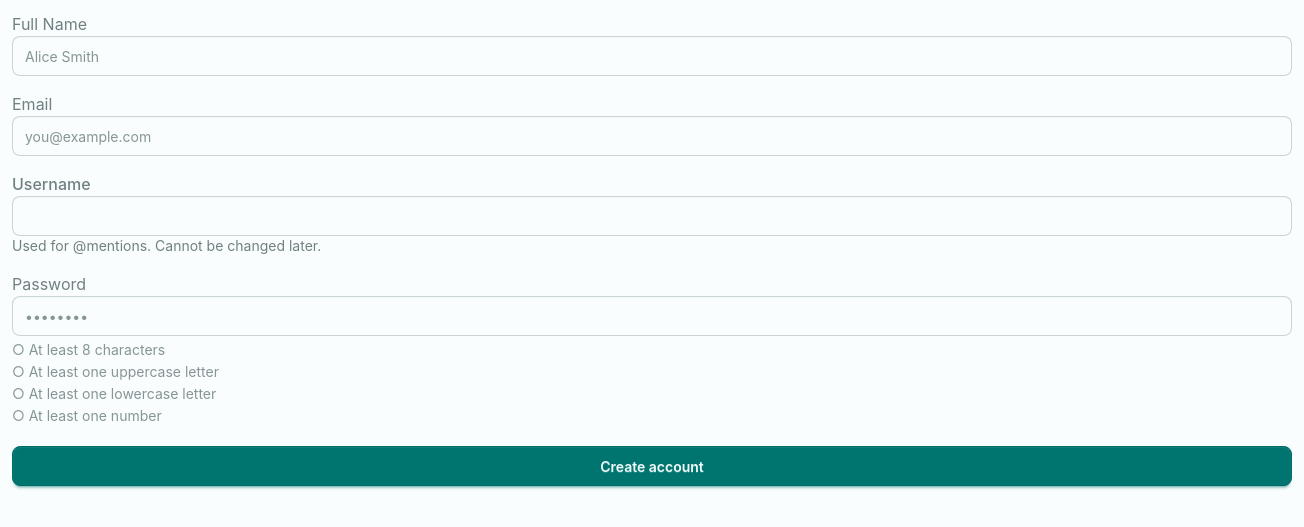
RegisterForm: username › shows a server rejection (taken) on the username field, not as a general error
The width and height of the screenshot is (1304, 527).
Step 1. Type "Sam Smith" into the field with placeholder "Alice Smith" → (652, 56), box [12,36,1292,76]
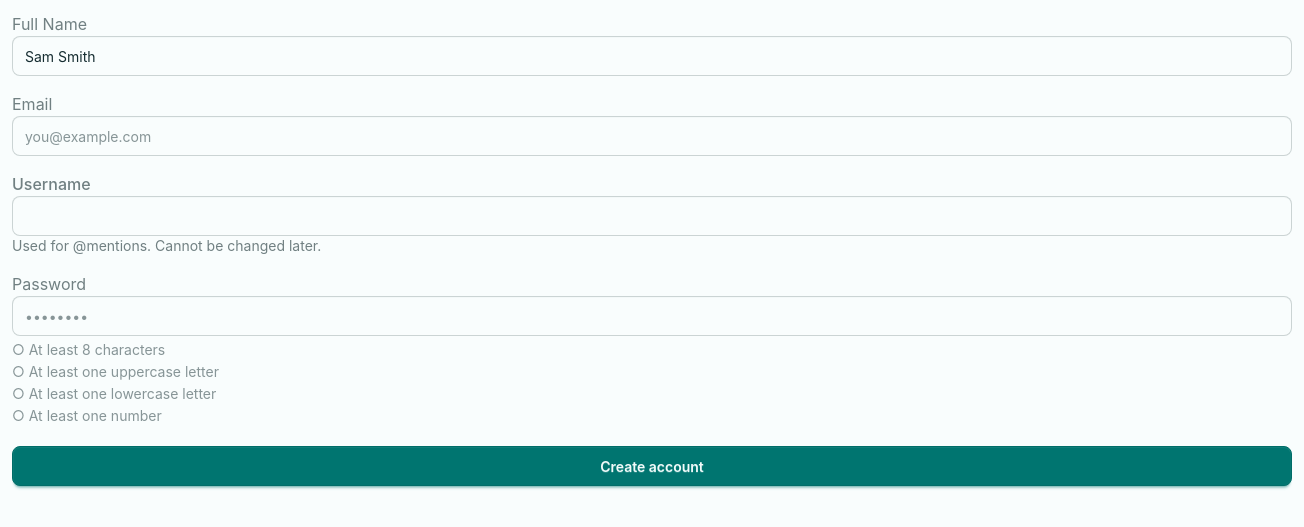
Step 2. Type "Sam-Smith@example.com" into the field with placeholder "you@example.com" → (652, 136), box [12,116,1292,156]
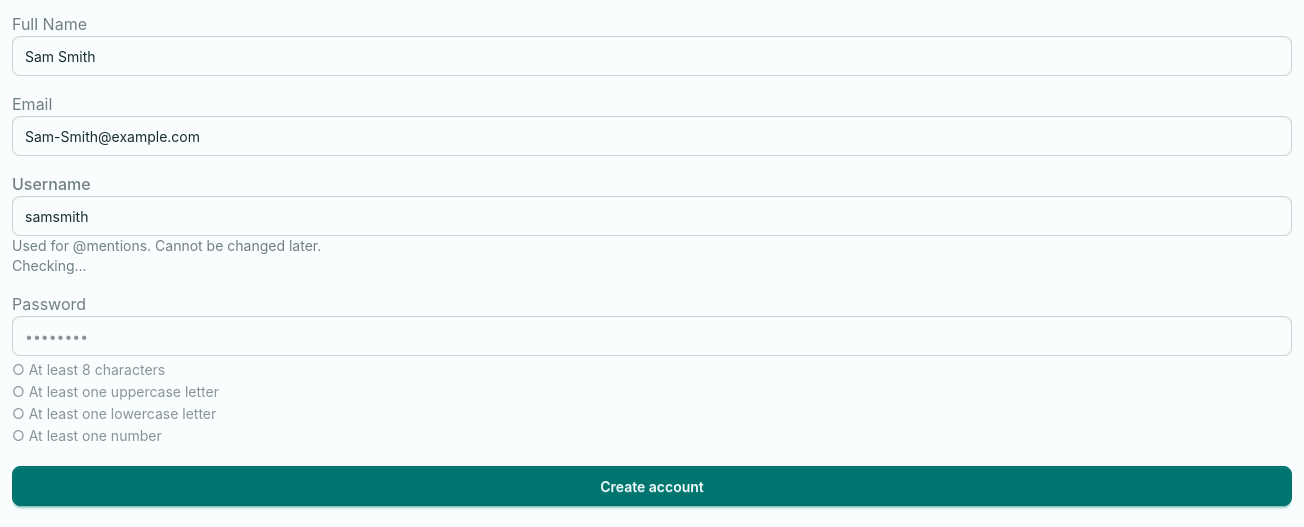
Step 3. Type "Passw0rd!x" into the password field with placeholder "••••••••" → (652, 336), box [12,316,1292,356]
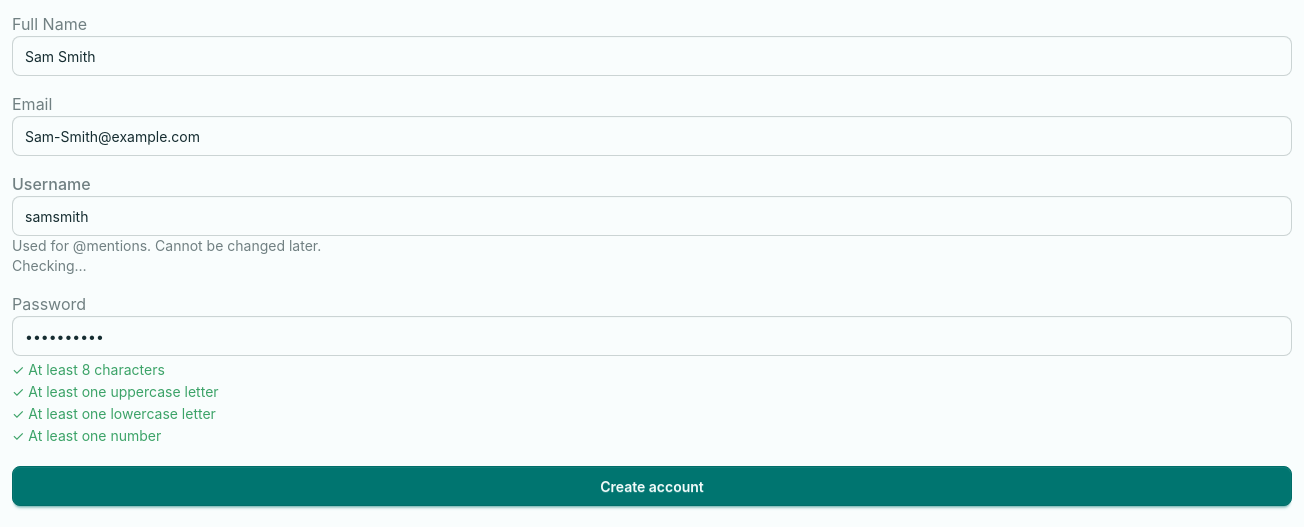
Step 4. Submit the form
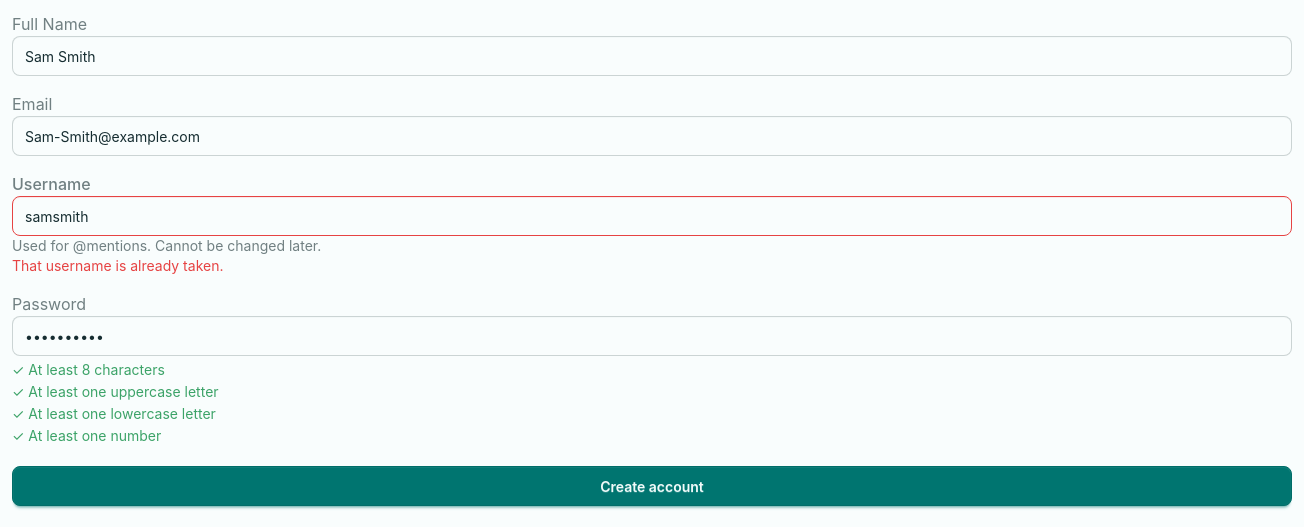
Expected: the message with test id "username-status" reads "That username is already taken.", [12,257,224,274]
